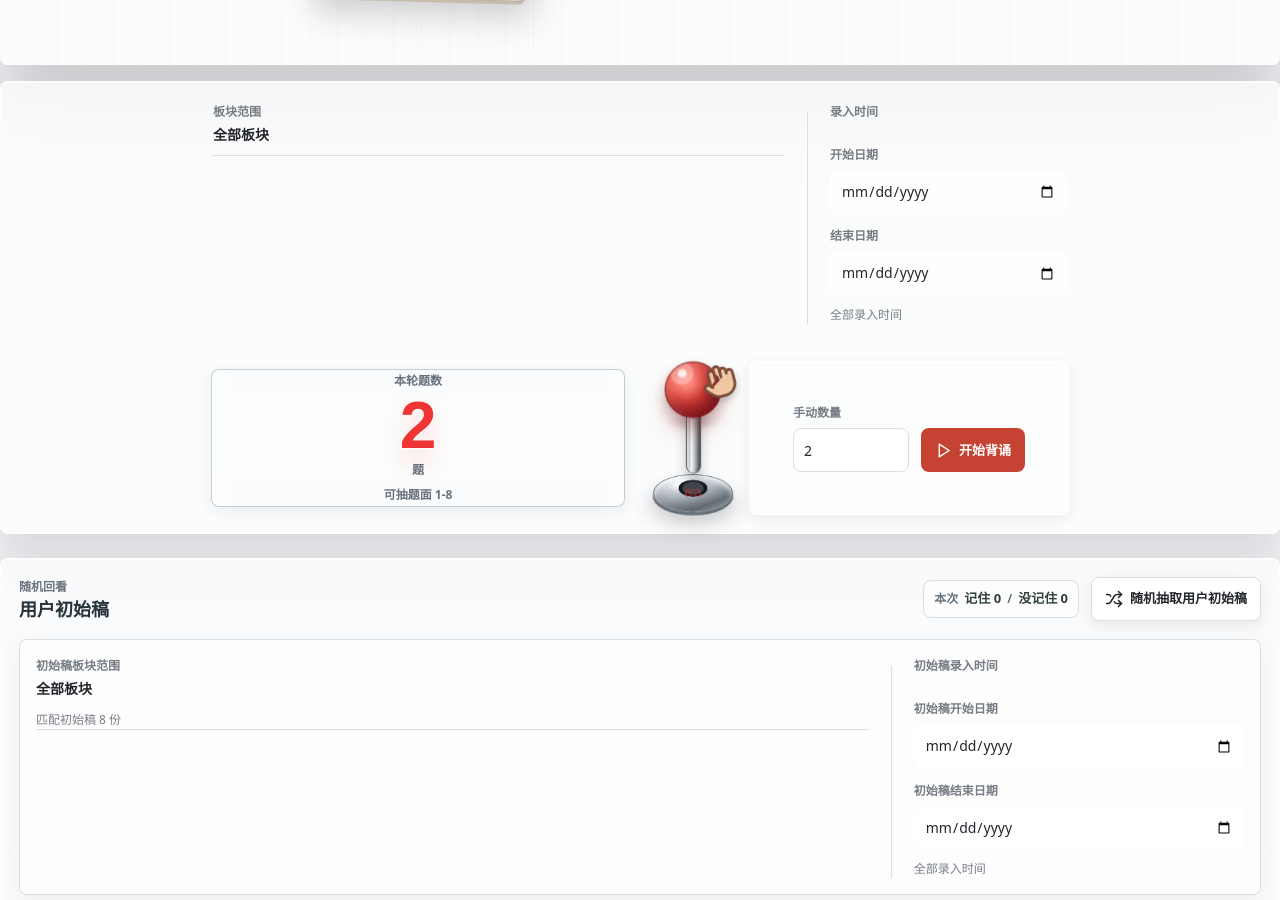
Test: 不会标注背诵页 › 手动输入本轮数量后按随机顺序且关闭到期优先抽取
(page scrolled)
Replace the text in the number field labelled "手动数量" with "5" at x=851, y=450, box [793,428,909,472]
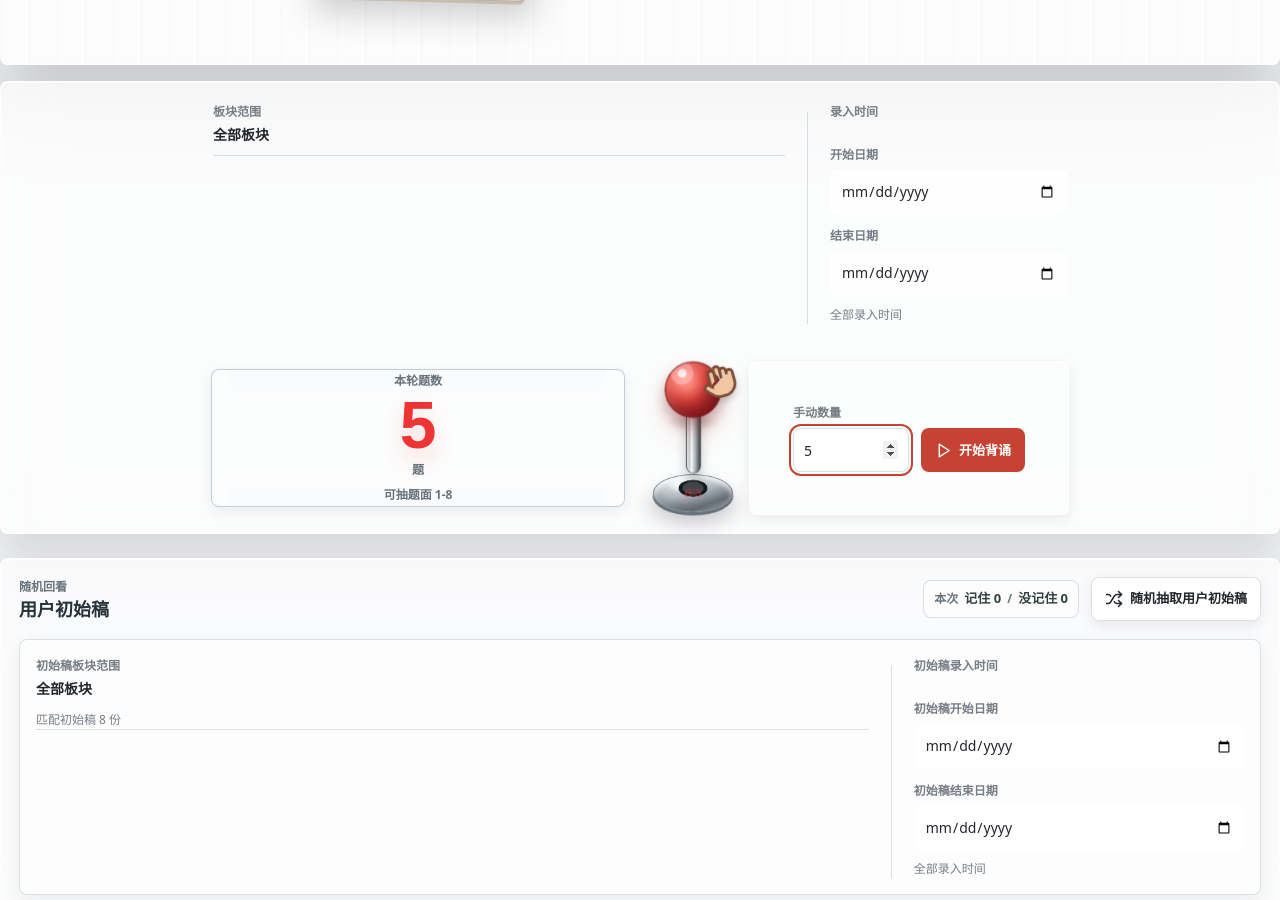
Click the button "开始背诵".
click(973, 450)  # box [921,428,1025,472]
(page scrolled)
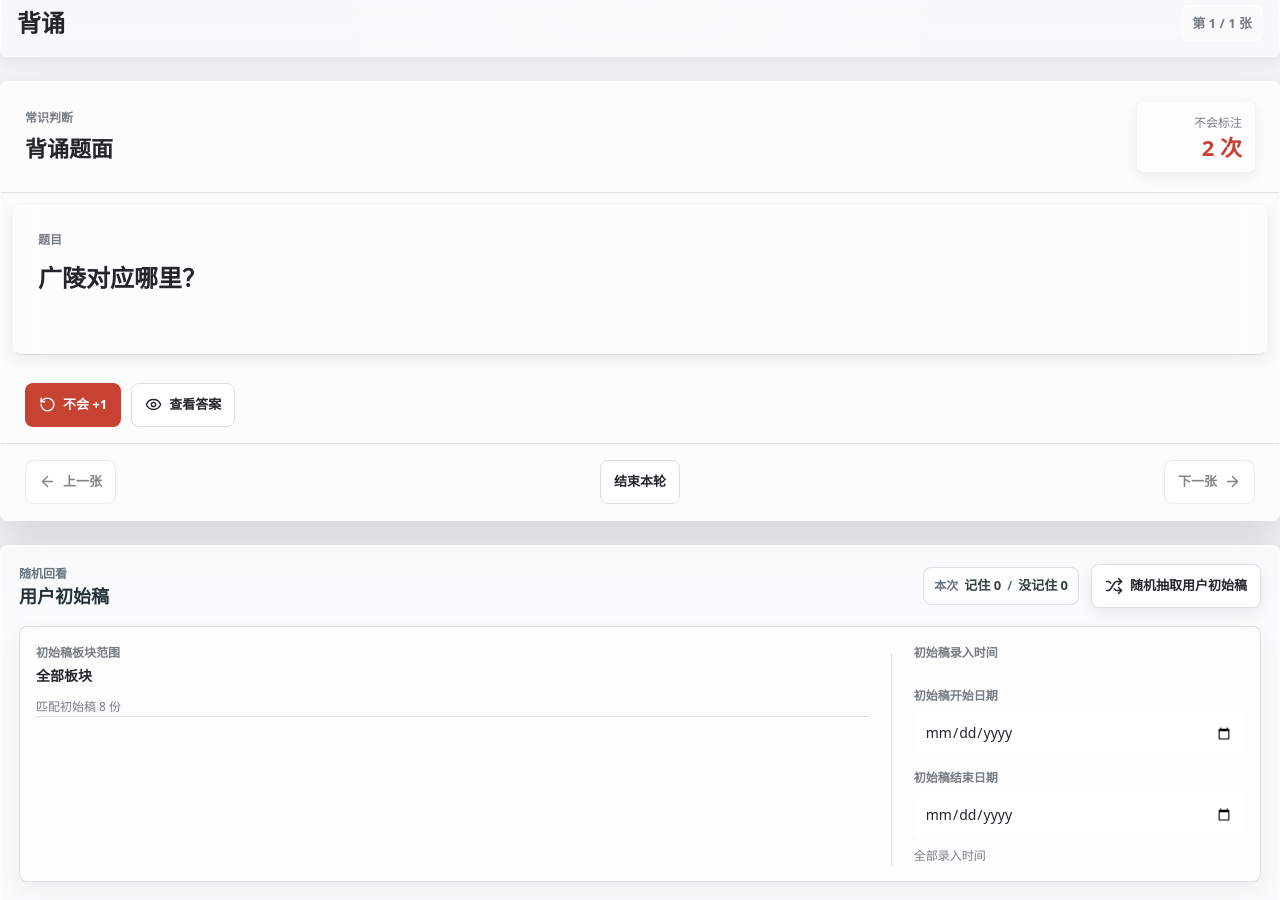
Check: the text "广陵对应哪里？" is shown, box [38,261,206,294]
